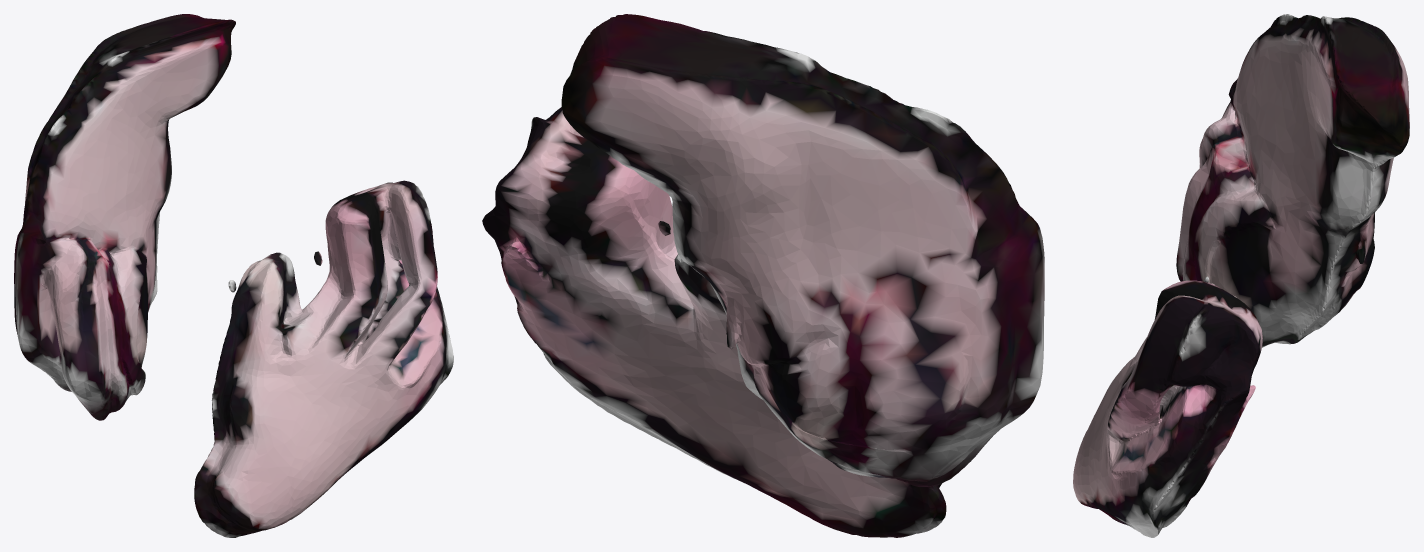
File: hands.glb
3 views of the same model, side by side, from view 1: azimuth 30°, elevation 25°; view 2: azimuth 150°, elevation 25°; view 3: azimuth 270°, elevation 25° (orthographic). The views are drawn at different scales.
Parts seen in each view (by area): view 1: geometry_0; view 2: geometry_0; view 3: geometry_0.
Part boxes in pixels (bbox=[...]): geometry_0: bbox=[14, 14, 453, 537]; geometry_0: bbox=[482, 14, 1044, 537]; geometry_0: bbox=[1073, 14, 1409, 537].
Size of the model in its own units: 0.6864 by 0.6875 by 0.445.
